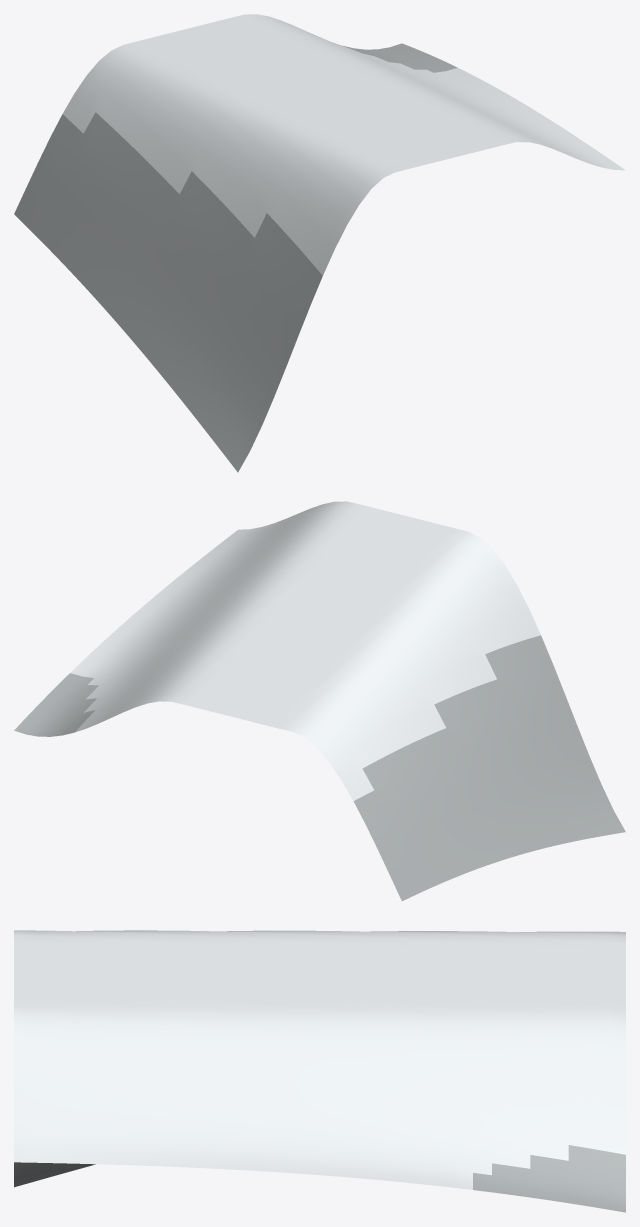
The model's file is alpine-12-9.glb.
The picture shows the model from 3 angles, top to bottom: view 1: azimuth 30°, elevation 25°; view 2: azimuth 150°, elevation 25°; view 3: azimuth 270°, elevation 25°; orthographic projection. The views are drawn at different scales.
Visible parts, largest first — view 1: alpine-12-9; view 2: alpine-12-9; view 3: alpine-12-9.
Part boxes in pixels (left/top/right/bottom): alpine-12-9: left=14, top=14, right=625, bottom=472; alpine-12-9: left=14, top=501, right=625, bottom=901; alpine-12-9: left=14, top=930, right=625, bottom=1212.
Bounding box in the file's own units: 256 × 166 × 256.
Materials: 2 (2 with a texture image).
